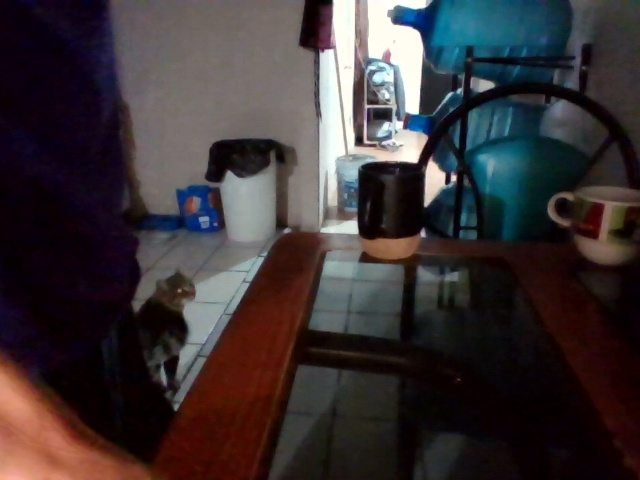taza: (356, 161, 426, 261)
